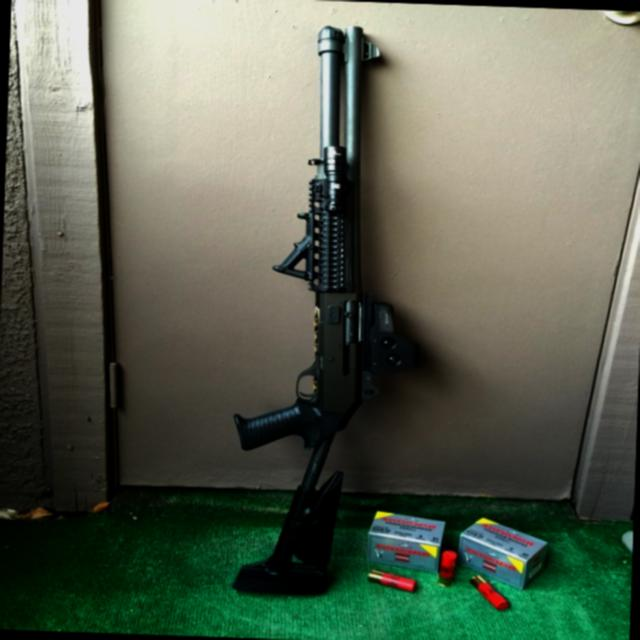shotgun: (212, 18, 407, 607)
